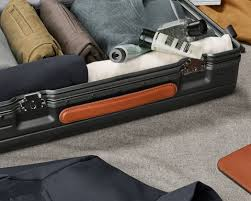suitcase: (1, 1, 243, 157)
